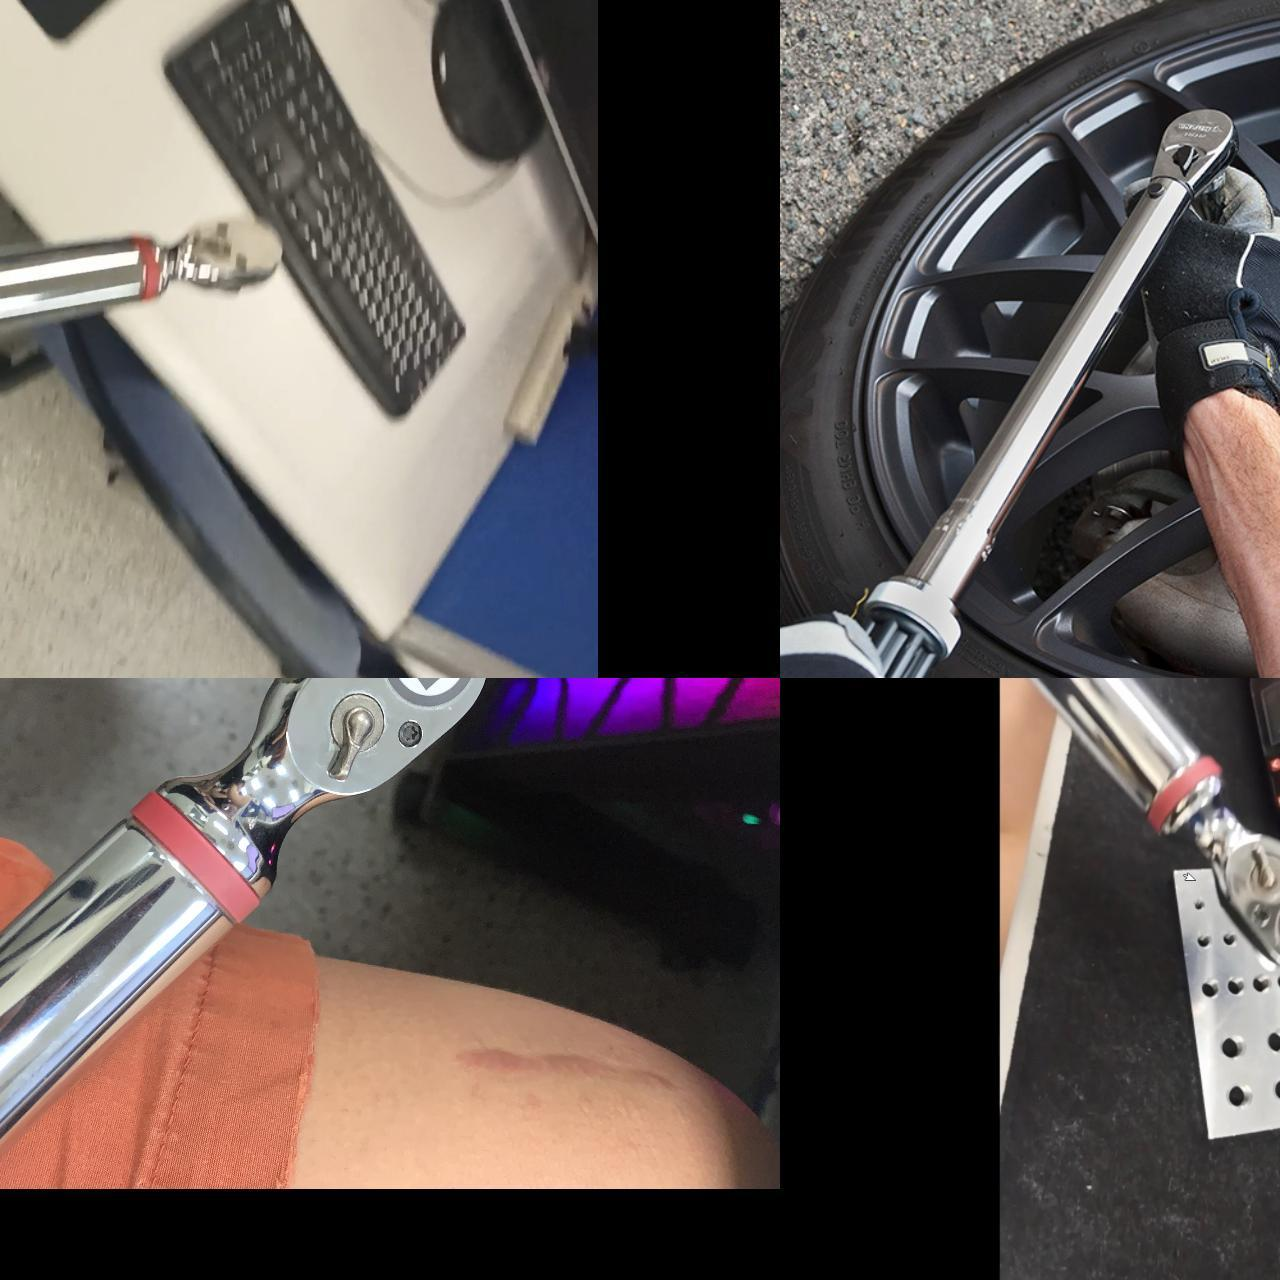Tool: (150, 678, 496, 896), (1159, 794, 1280, 969), (1145, 107, 1237, 191)
